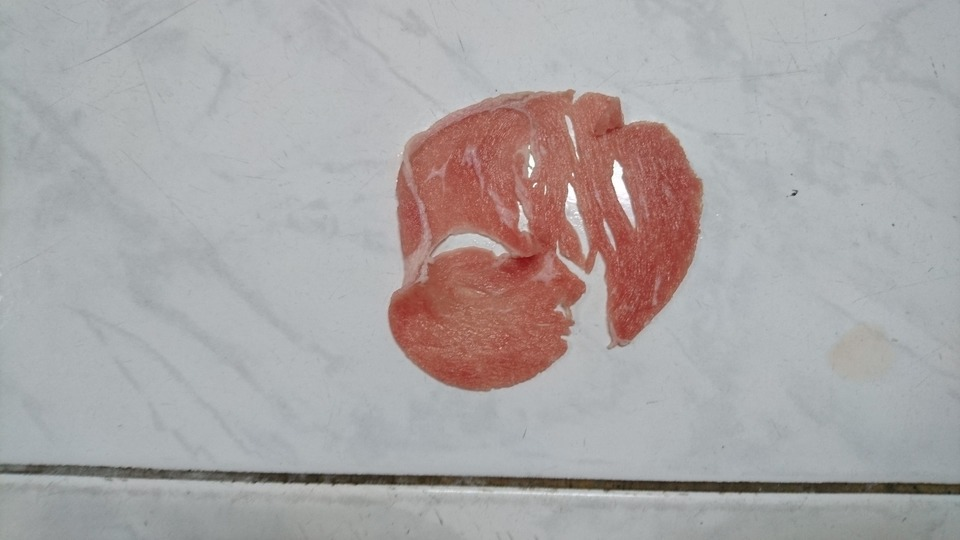restructured meat: (378, 88, 707, 395)
